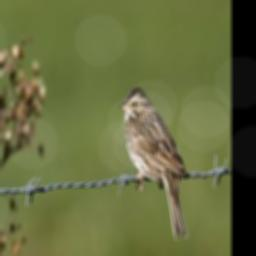Sparrow: (120, 85, 191, 244)
